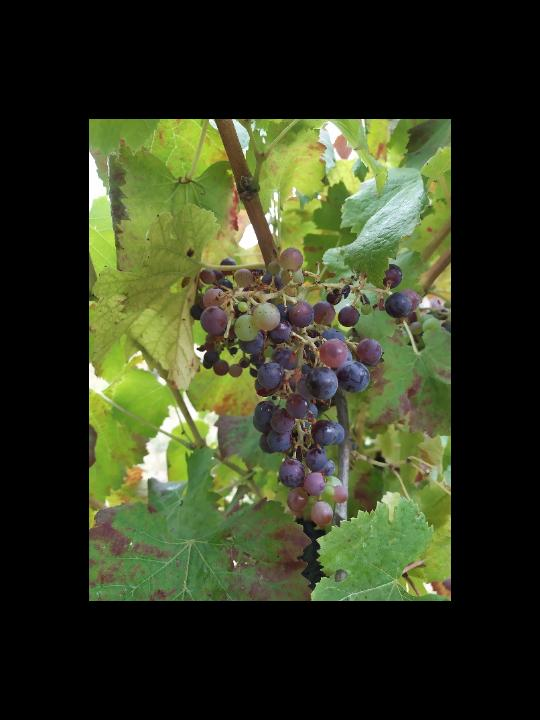grape: (188, 247, 421, 529)
